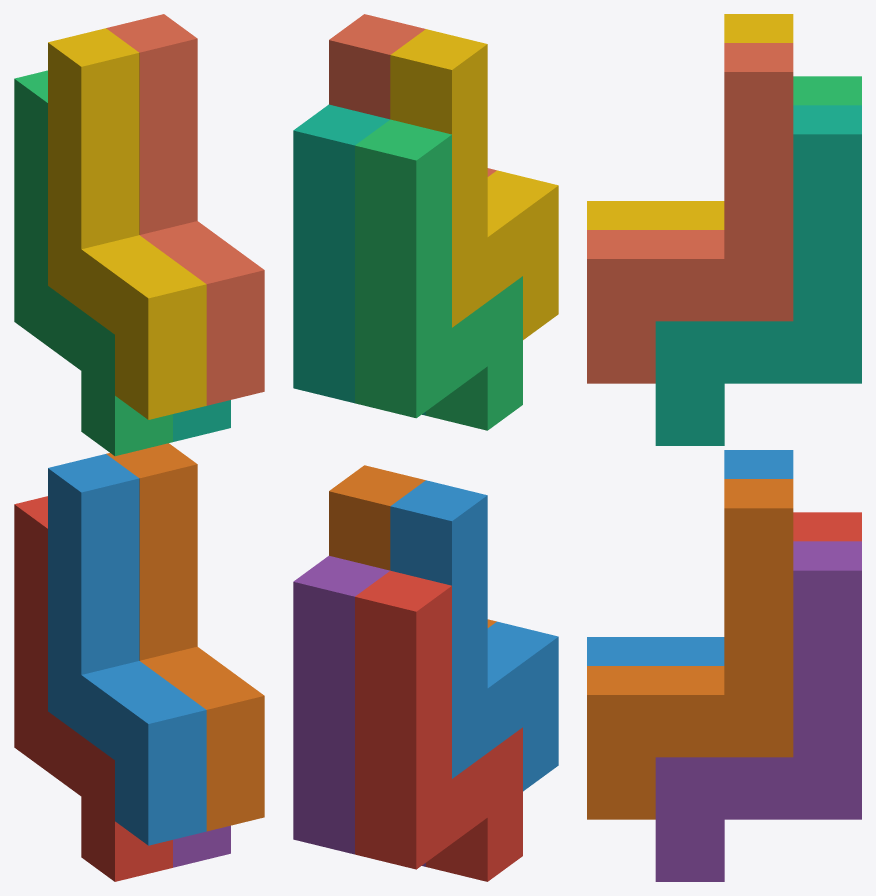
The model's file is tiling.obj.
3 views of the same model, side by side, from view 1: azimuth 30°, elevation 25°; view 2: azimuth 150°, elevation 25°; view 3: azimuth 270°, elevation 25° (orthographic). The views are drawn at different scales.
Parts seen in each view (by area): view 1: copy_1_domain_4, copy_1_domain_2, copy_1_domain_8, copy_1_domain_6, copy_1_domain_1, copy_1_domain_3, copy_1_domain_5, copy_1_domain_7; view 2: copy_1_domain_1, copy_1_domain_3, copy_1_domain_2, copy_1_domain_4, copy_1_domain_5, copy_1_domain_7, copy_1_domain_8, copy_1_domain_6; view 3: copy_1_domain_6, copy_1_domain_8, copy_1_domain_5, copy_1_domain_7, copy_1_domain_2, copy_1_domain_4, copy_1_domain_1, copy_1_domain_3.
Boxes of the visible parts, x1,y1,x2,y2 form: copy_1_domain_4: (48,28,206,419); copy_1_domain_2: (48,454,206,845); copy_1_domain_8: (106,14,264,405); copy_1_domain_6: (106,443,264,831); copy_1_domain_1: (14,496,172,881); copy_1_domain_3: (14,70,172,456); copy_1_domain_5: (173,825,230,867); copy_1_domain_7: (173,400,230,441); copy_1_domain_1: (355,570,522,881); copy_1_domain_3: (355,119,522,430); copy_1_domain_2: (390,480,558,791); copy_1_domain_4: (390,29,558,339); copy_1_domain_5: (293,556,425,866); copy_1_domain_7: (293,104,425,415); copy_1_domain_8: (329,14,496,176); copy_1_domain_6: (329,465,496,627); copy_1_domain_6: (587,479,793,819); copy_1_domain_8: (587,43,793,383); copy_1_domain_5: (655,541,861,881); copy_1_domain_7: (655,105,861,445); copy_1_domain_2: (587,450,793,665); copy_1_domain_4: (587,14,793,229); copy_1_domain_1: (793,512,861,541); copy_1_domain_3: (793,76,861,105).
Bounding box in the file's own units: 2 × 13 × 4.
